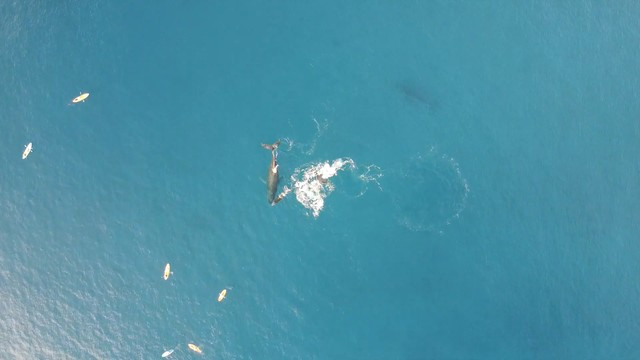whale: (257, 136, 284, 210)
